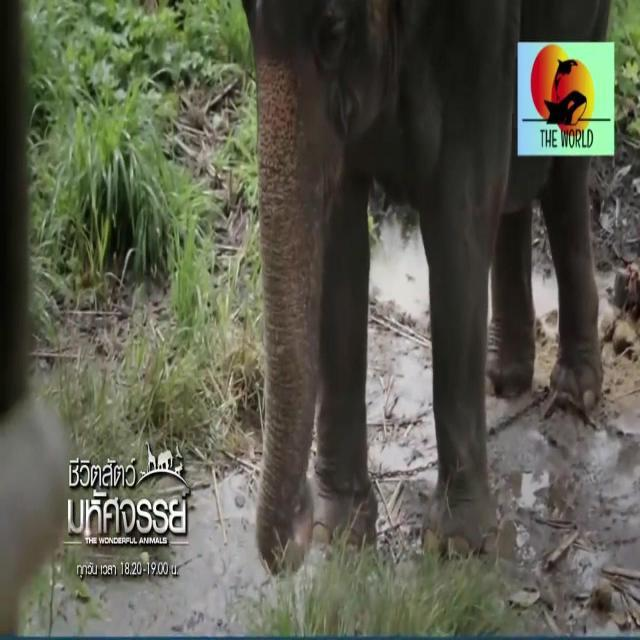Elephant: (249, 0, 486, 520)
